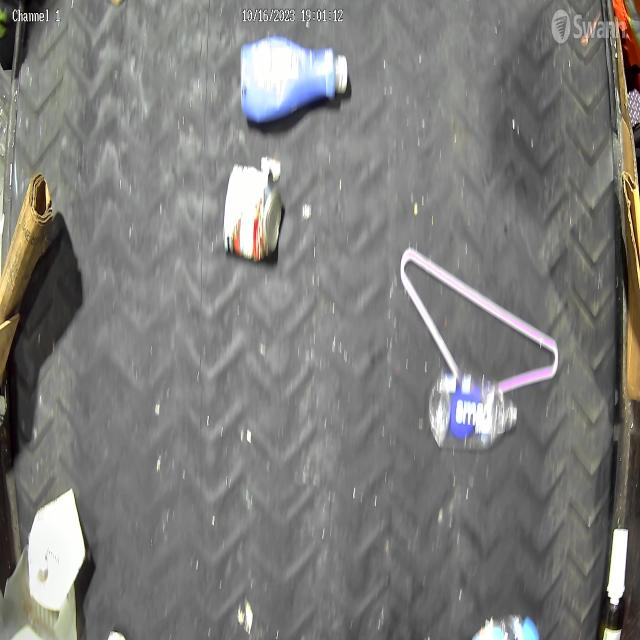can: (223, 162, 283, 262)
non_white_jug: (240, 38, 349, 122)
plastic_bottle: (428, 371, 518, 452)
